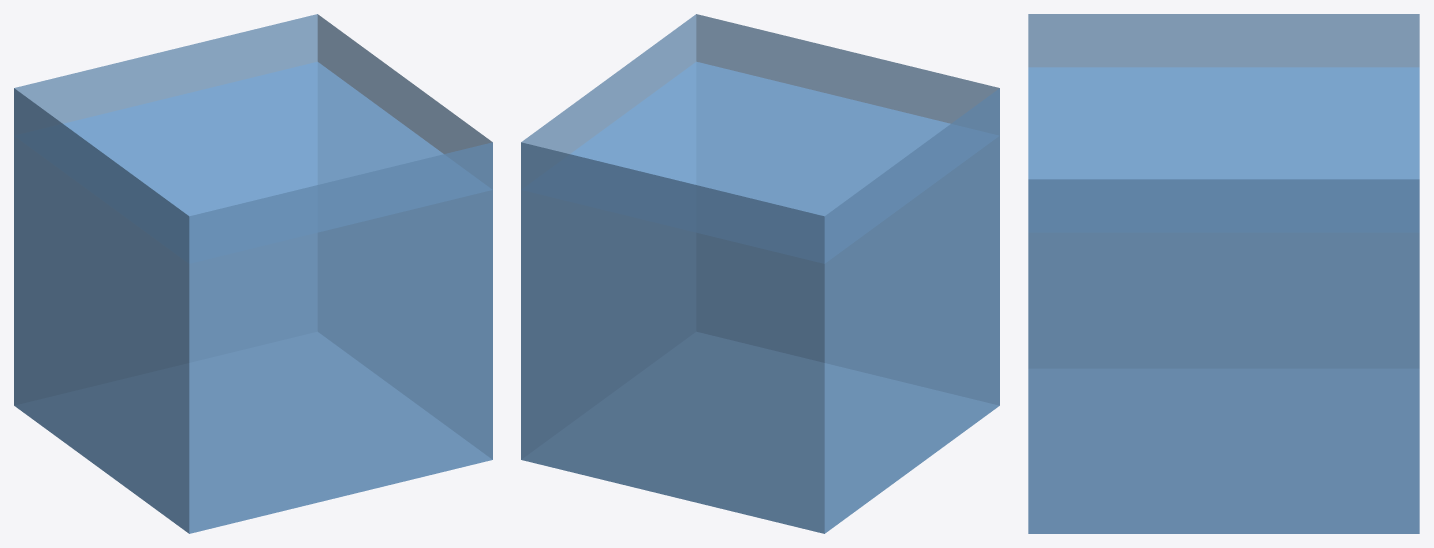
Rendered from Block_water.glb.
3 renders of one model, left to right at view 1: azimuth 30°, elevation 25°; view 2: azimuth 150°, elevation 25°; view 3: azimuth 270°, elevation 25°, orthographic. The views are drawn at different scales.
Visible parts, largest first — view 1: Block_water; view 2: Block_water; view 3: Block_water.
Part boxes in pixels (x1,y1,x2,y2): Block_water: (14,14,492,533); Block_water: (521,14,999,533); Block_water: (1028,14,1419,533).
Bounding box in the file's own units: 1 × 1 × 1.
